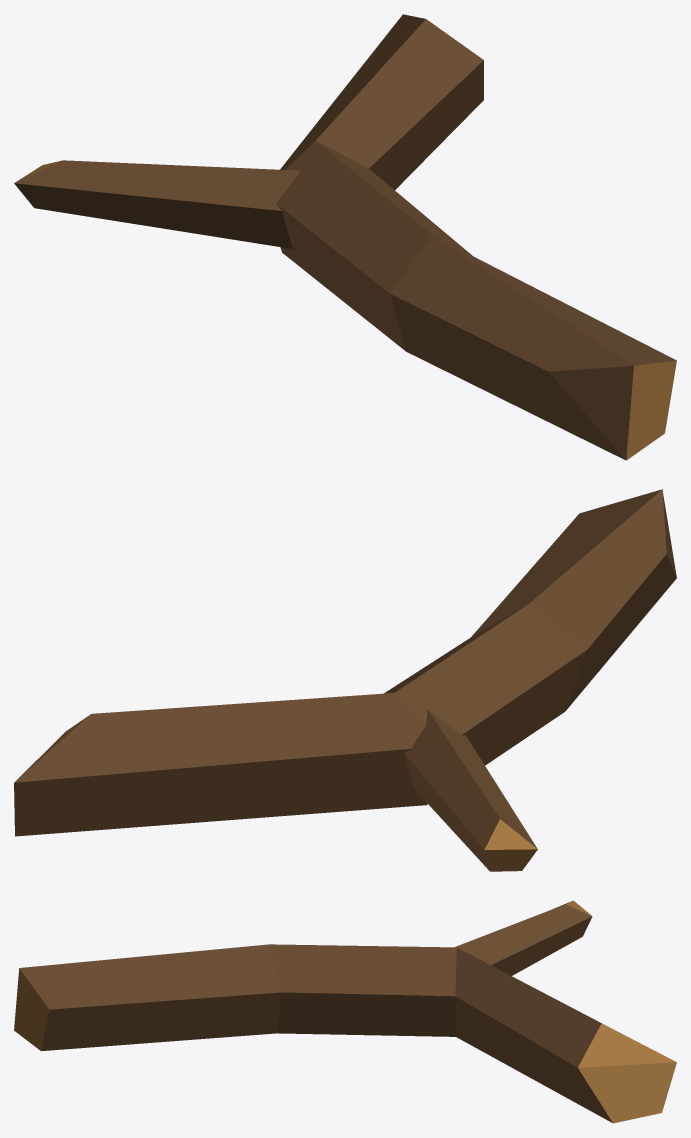
File: nature-tree-debris-e.glb
3 views of the same model, one above another, from view 1: azimuth 30°, elevation 25°; view 2: azimuth 150°, elevation 25°; view 3: azimuth 270°, elevation 25° (orthographic). The views are drawn at different scales.
Parts seen in each view (by area): view 1: tree-debris-e; view 2: tree-debris-e; view 3: tree-debris-e.
Part boxes in pixels (x1,y1,x2,y2): tree-debris-e: (14, 14, 676, 460); tree-debris-e: (14, 489, 676, 871); tree-debris-e: (14, 900, 676, 1123).
Bounding box in the file's own units: 0.6048 × 0.1227 × 0.9402.
